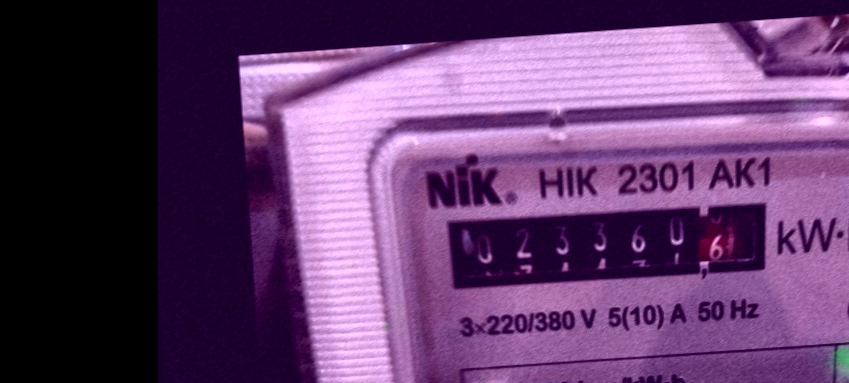0: (471, 228, 496, 265), (664, 211, 688, 247)
2: (511, 223, 534, 260)
3: (550, 221, 572, 257), (589, 217, 609, 252)
6: (626, 218, 648, 253), (705, 227, 725, 262)
screen: (433, 185, 790, 308)
